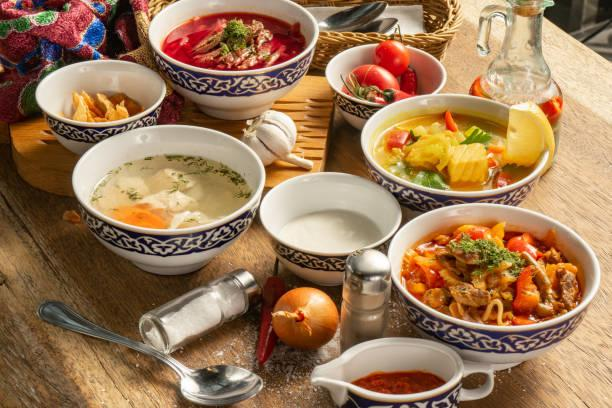Braised Crucian Carp: (386, 201, 598, 364), (73, 126, 263, 277), (361, 92, 551, 213), (149, 0, 314, 122), (35, 59, 165, 155)
